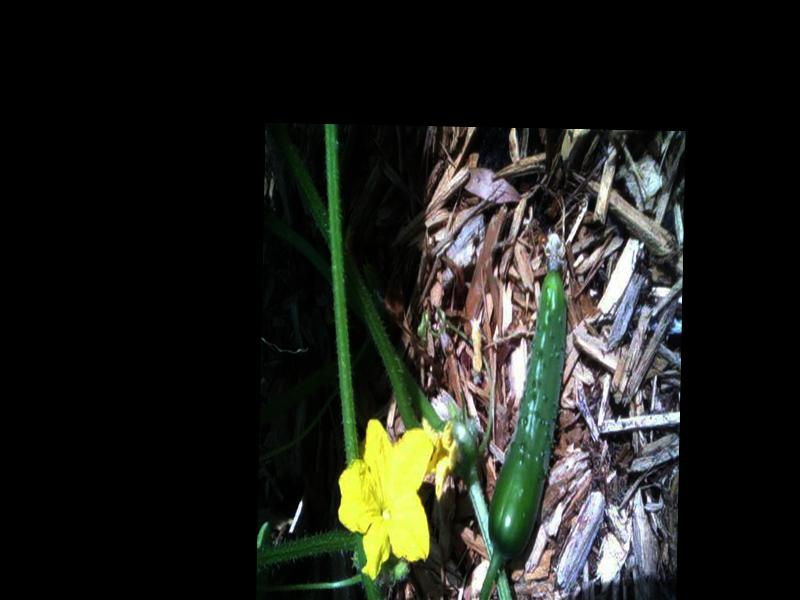Cucumber: (487, 238, 571, 563)
